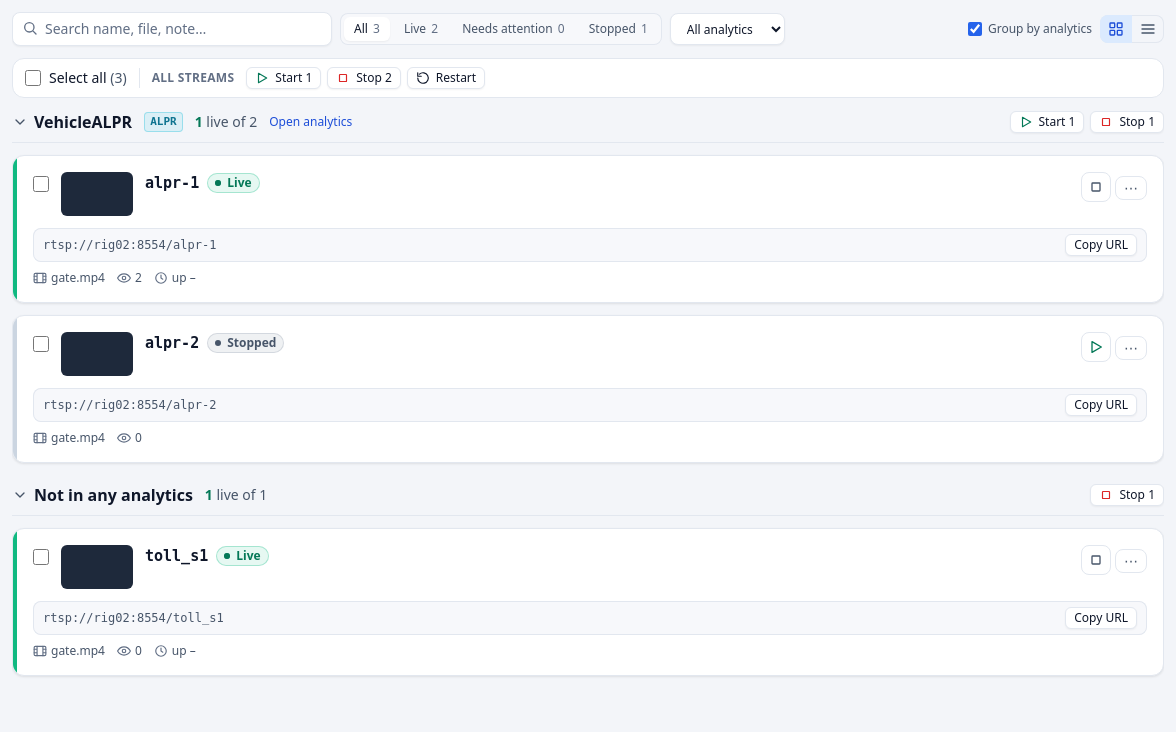
Streams page layout › switches to a table and remembers it; rare actions live in the ⋯ menu
The width and height of the screenshot is (1176, 732).
Later steps or results of the test are not shown.
expect the element named "Streams of VehicleALPR" is shown: met, box [12, 110, 1164, 463]
Click the button named "Table view" at point(1148, 29), box [1132, 15, 1164, 43]
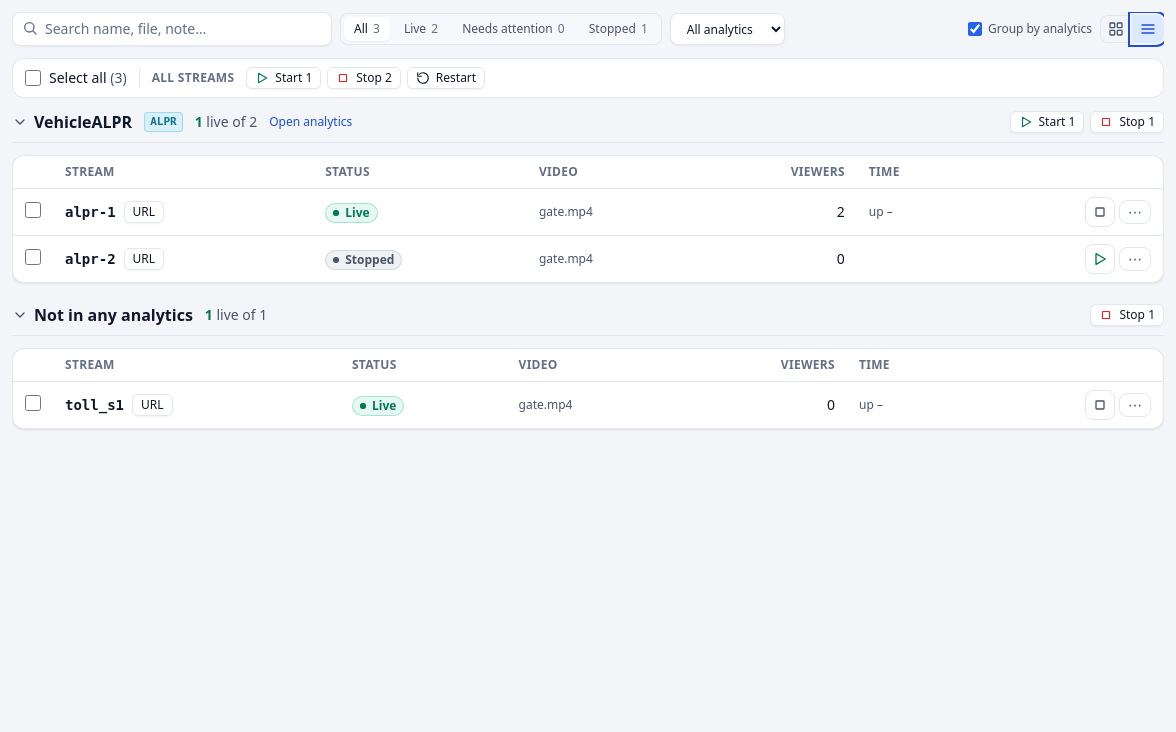
expect the row named "Stream alpr-1, RUNNING" is shown: met, box [13, 188, 1163, 236]
